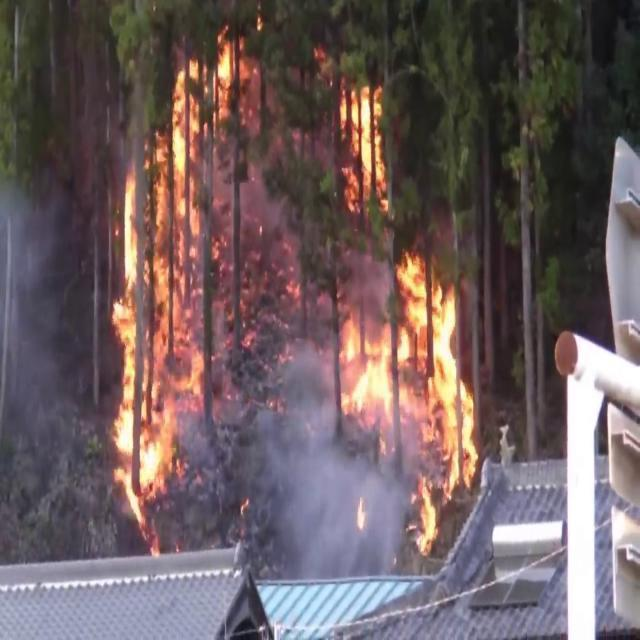Fire: (320, 66, 484, 515), (104, 27, 250, 527)
Smoke: (240, 337, 380, 586), (0, 171, 83, 492)
